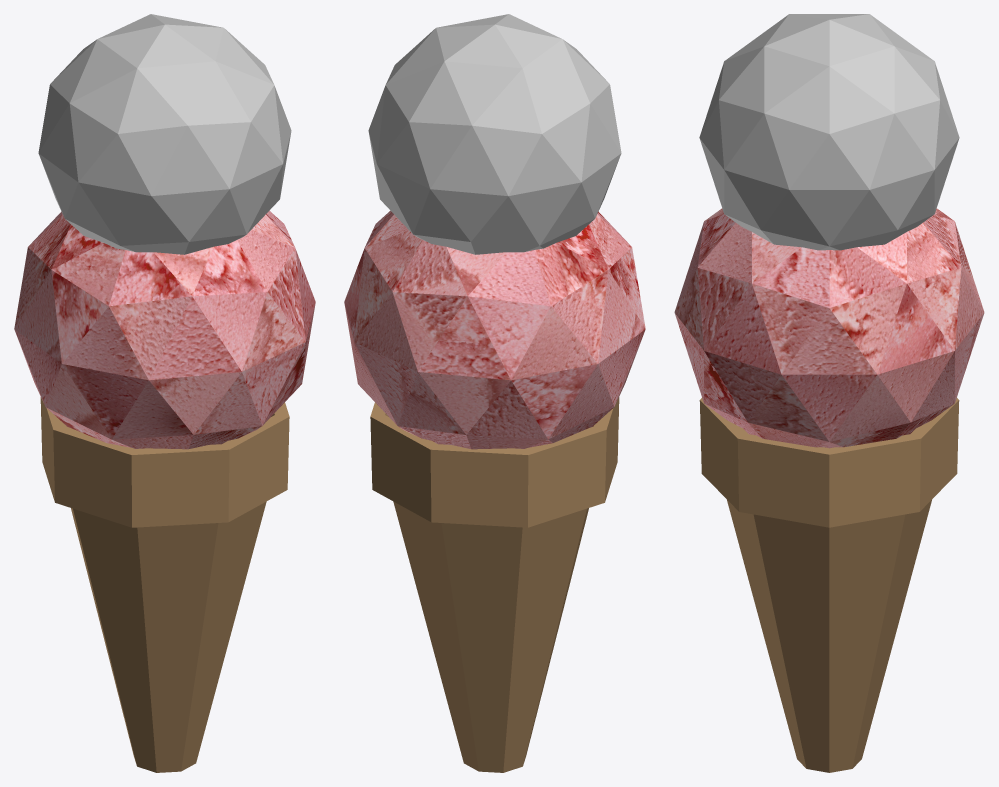
Rendered from game_icecream.fbx.
3 renders of one model, left to right at view 1: azimuth 30°, elevation 25°; view 2: azimuth 150°, elevation 25°; view 3: azimuth 270°, elevation 25°, orthographic.
Visible parts, largest first — view 1: ice1, cone, ice2; view 2: ice1, cone, ice2; view 3: ice1, cone, ice2.
Boxes of the visible parts, x1,y1,x2,y2 form: ice1: [14, 211, 315, 449]; cone: [40, 397, 289, 772]; ice2: [38, 14, 291, 254]; ice1: [344, 211, 645, 449]; cone: [370, 397, 619, 772]; ice2: [368, 14, 621, 254]; ice1: [674, 208, 984, 448]; cone: [699, 398, 959, 772]; ice2: [699, 14, 959, 250].
Bounding box in the file's own units: 145 × 403 × 153.
